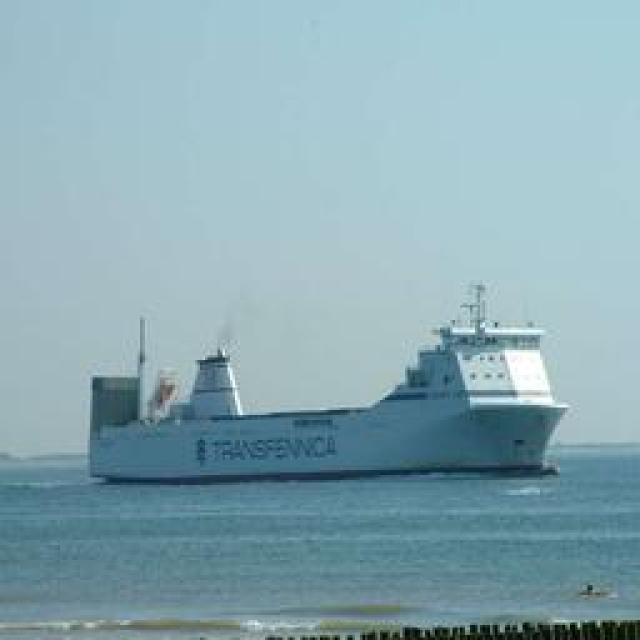CIV_Ship: (94, 295, 574, 485)
